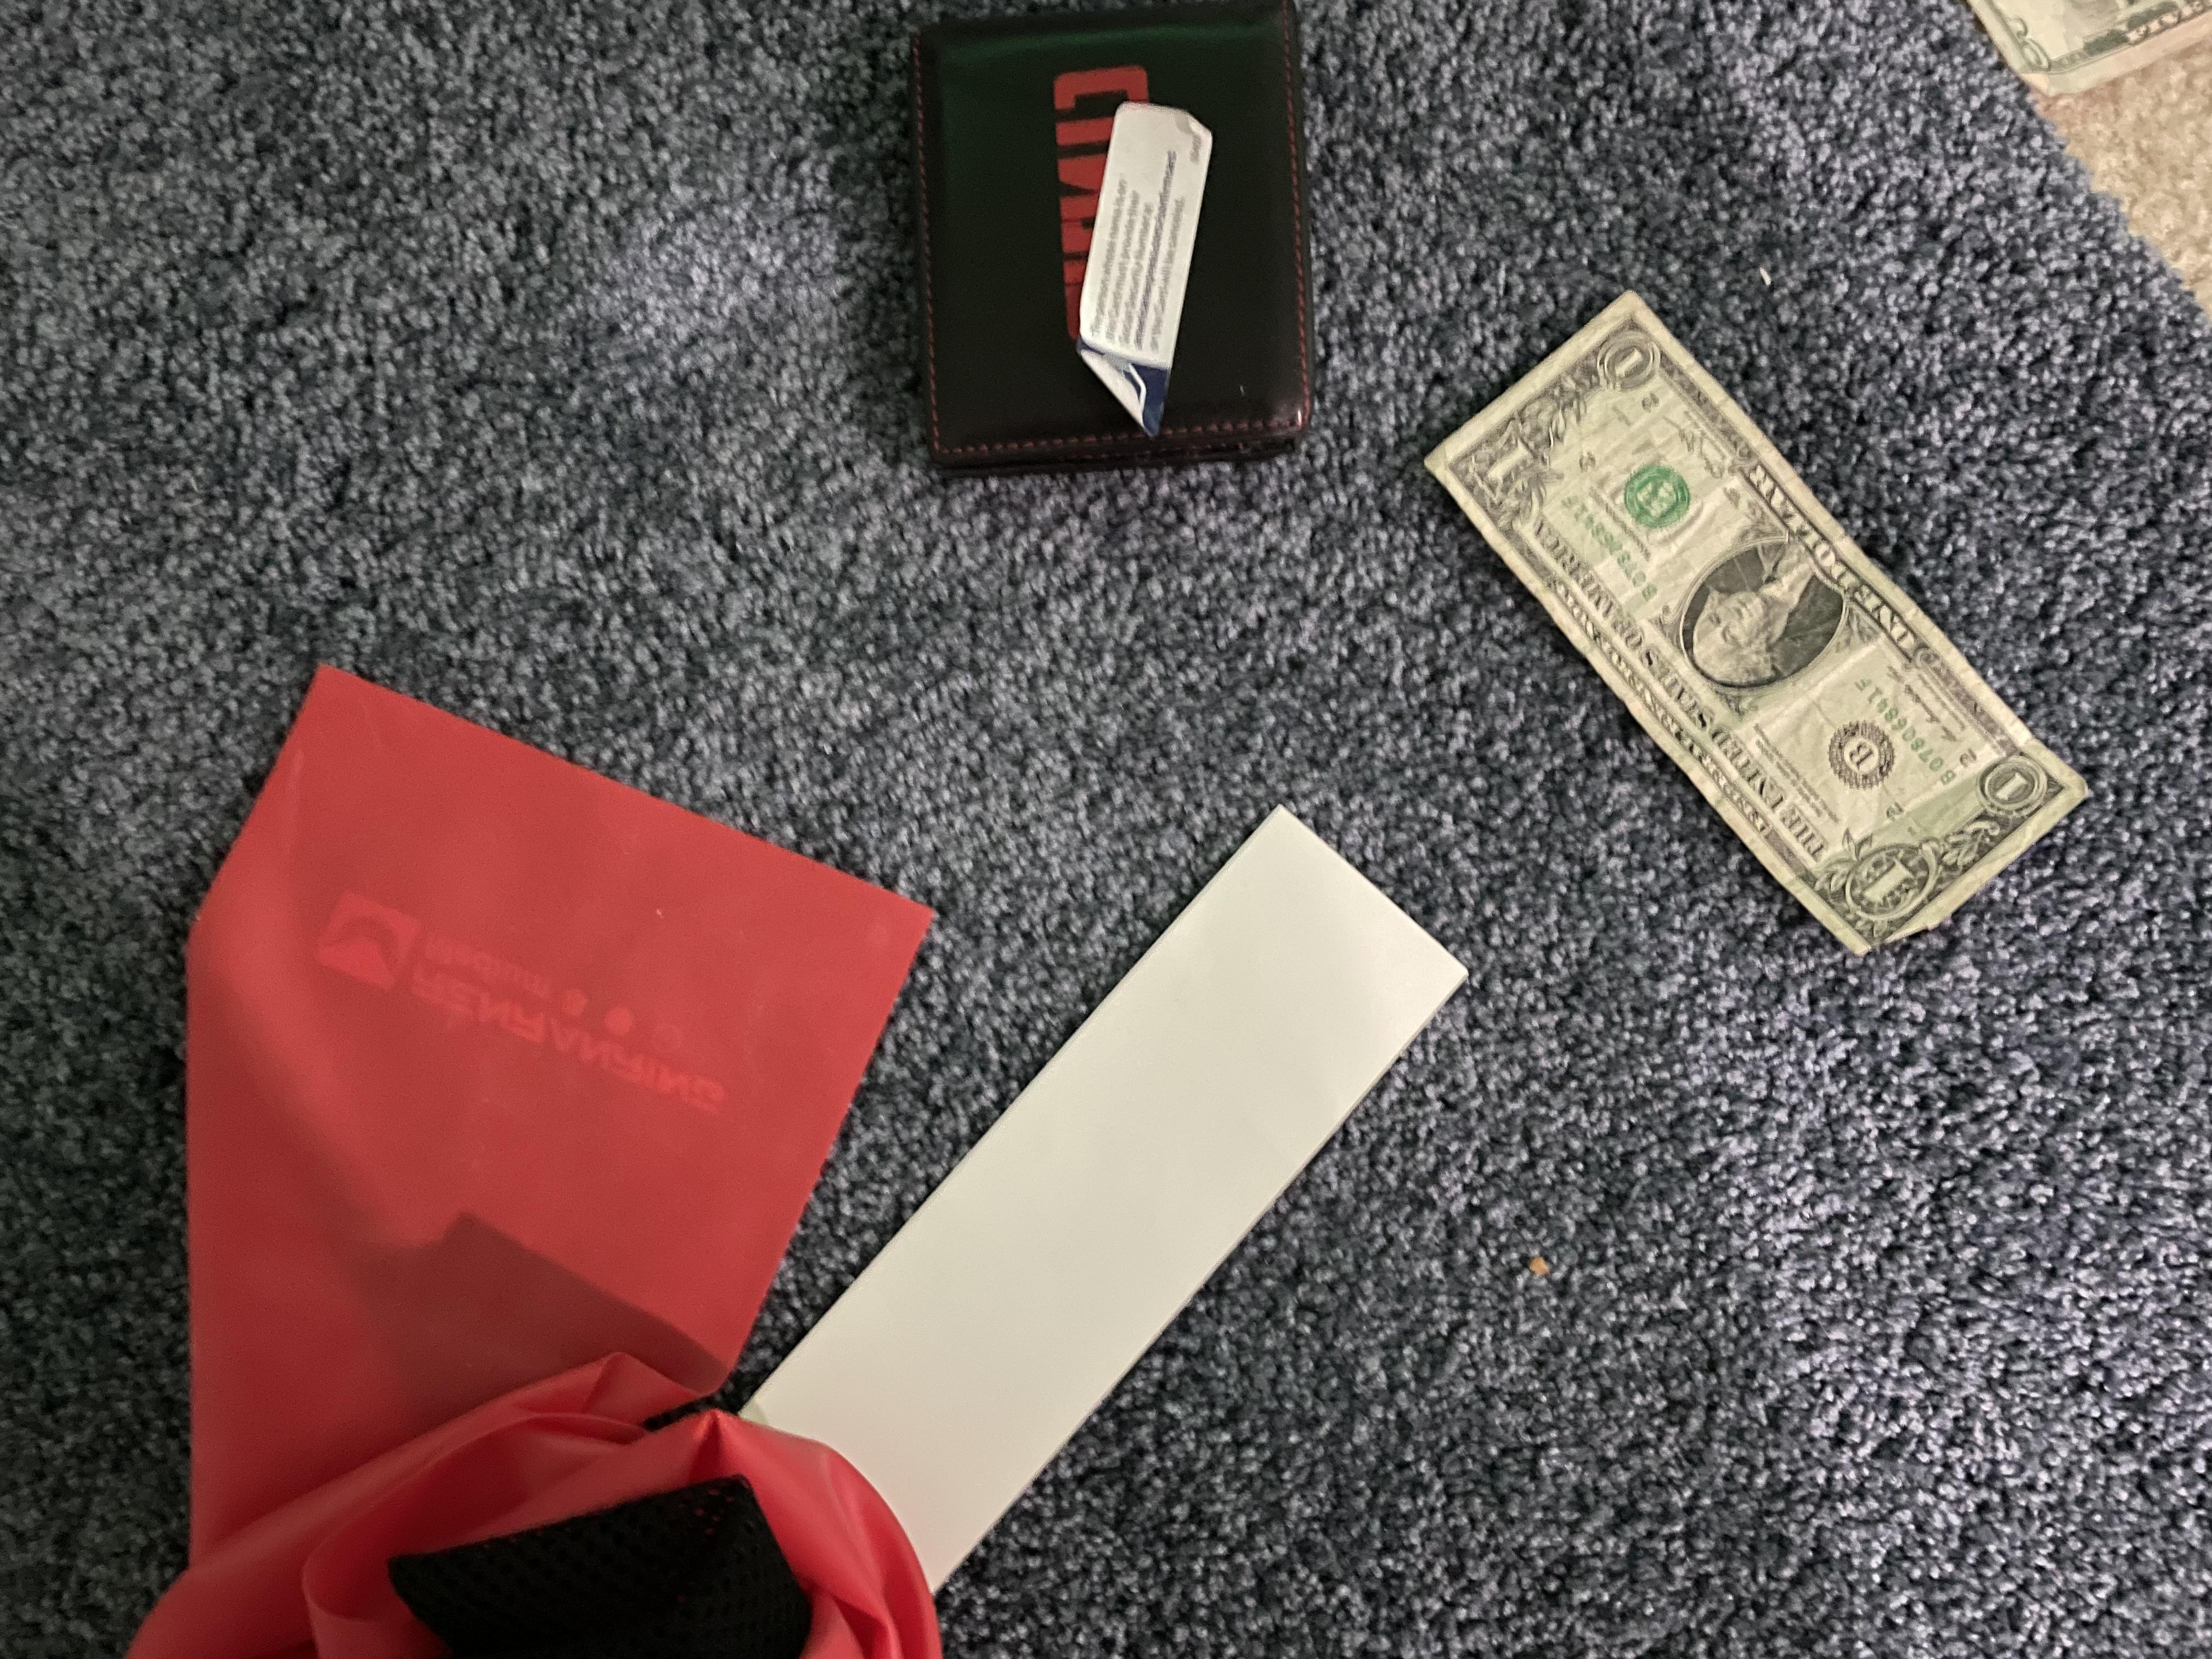OneBill: (1409, 286, 2102, 962)
